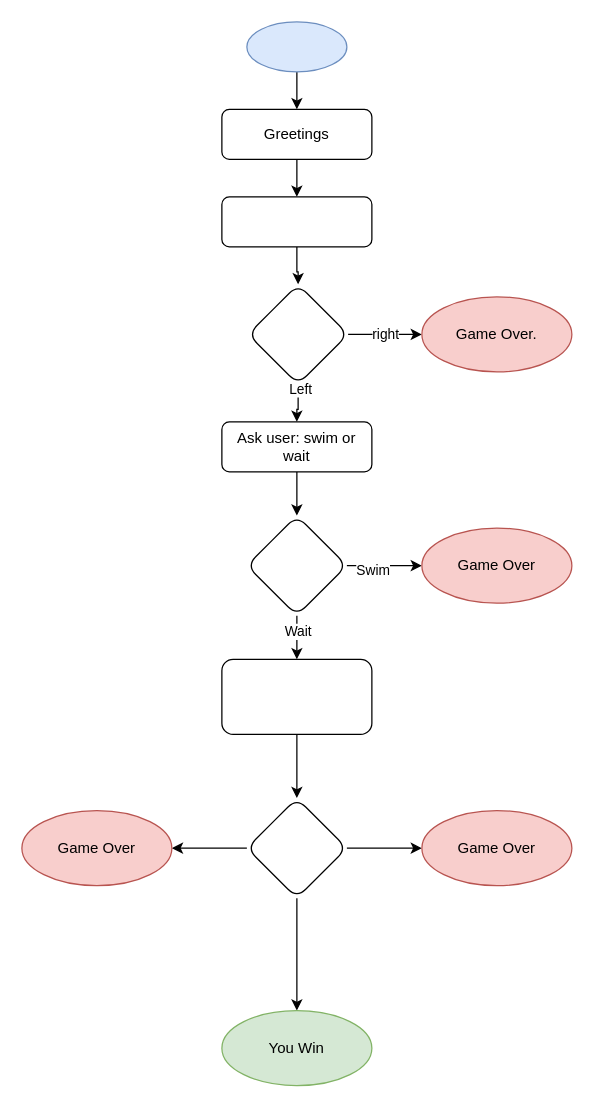
This 594x1108 diagram has some shape labels left out. The shapes that lost their labels are listed below. From the top down, each one's box as (x1, y1, x2, y2) in pixels, then its label:
(246, 21, 347, 72): Start
(221, 196, 372, 247): Ask user where to go
(221, 658, 372, 734): Ask user which door
